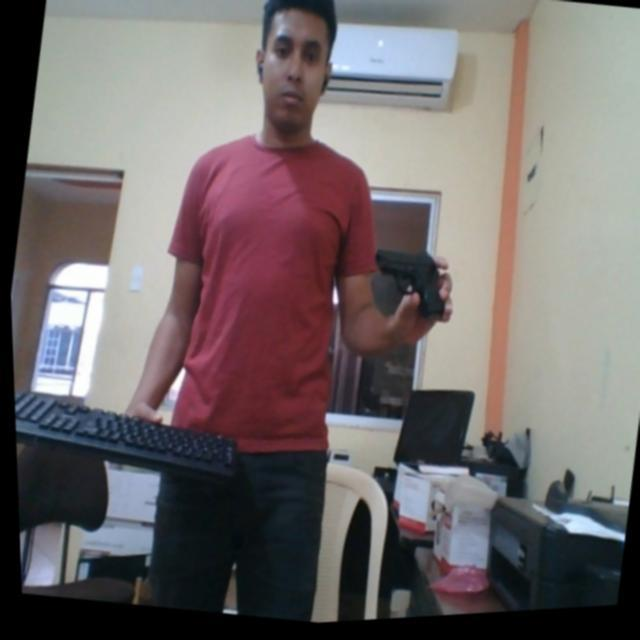weapon: (362, 245, 452, 332)
